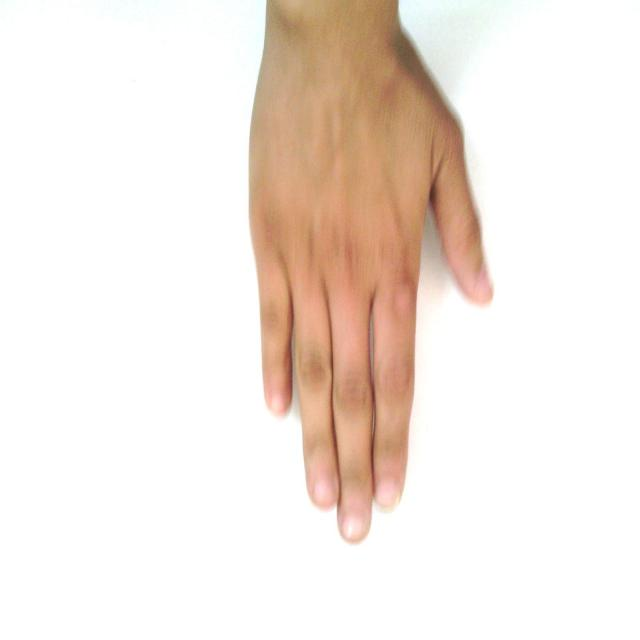others: (182, 0, 543, 548)
